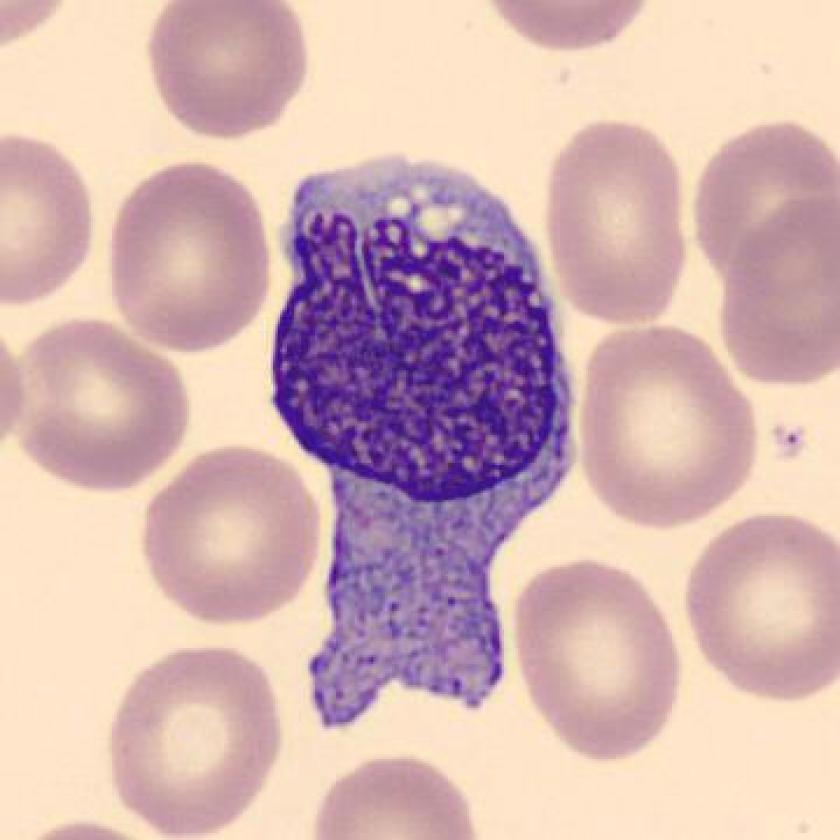monocyte: (235, 131, 613, 756)
